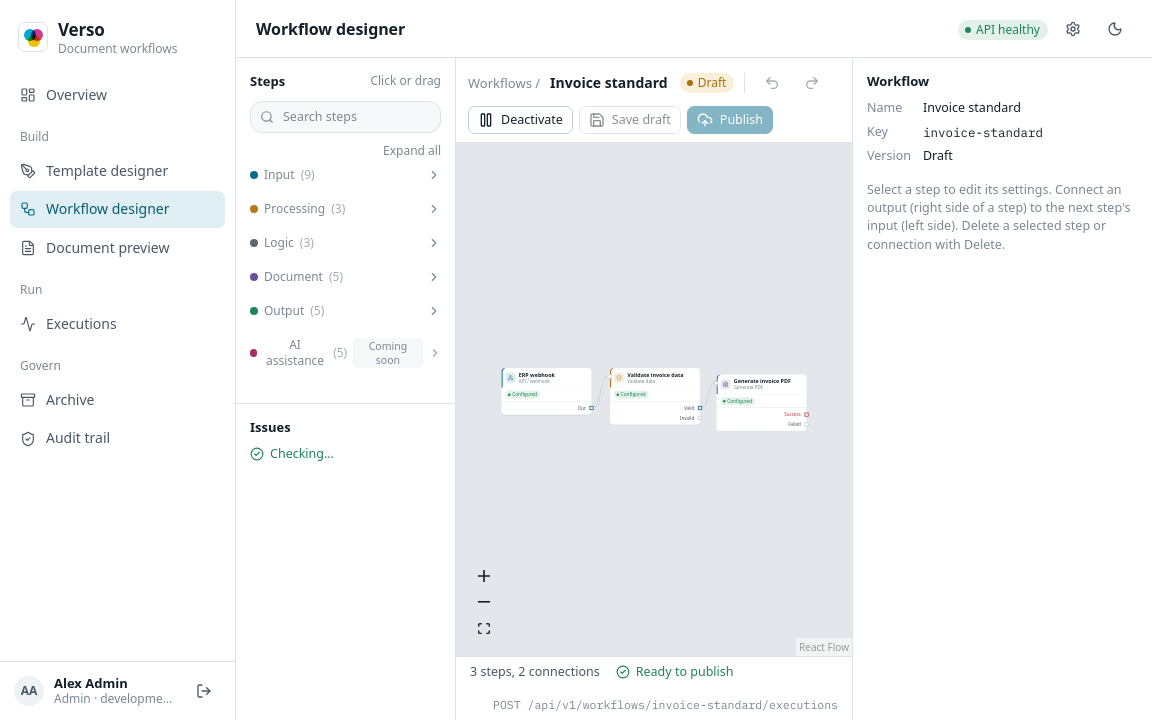
Workflow designer › filters the palette by search and collapses categories
Later steps or results of the test are not shown.
Check: the element named "Workflow designer" is shown, box [456,58,852,143]
In the search field labelled "Search steps": [346, 117] box [250,101,441,133], type "pdf"
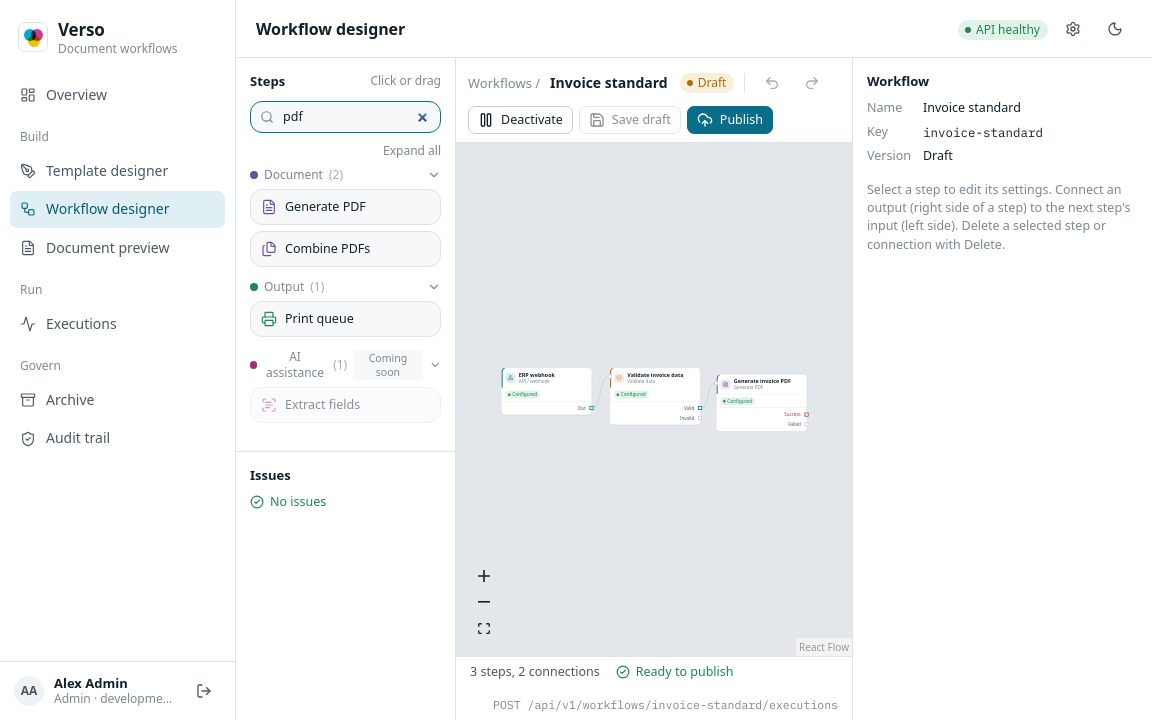
Check: the button with aria-label "Add Generate PDF" is shown, box [250,189,441,225]
Replace the text in the search field named "Search steps" with "zzzz": [346, 117] box [250,101,441,133]
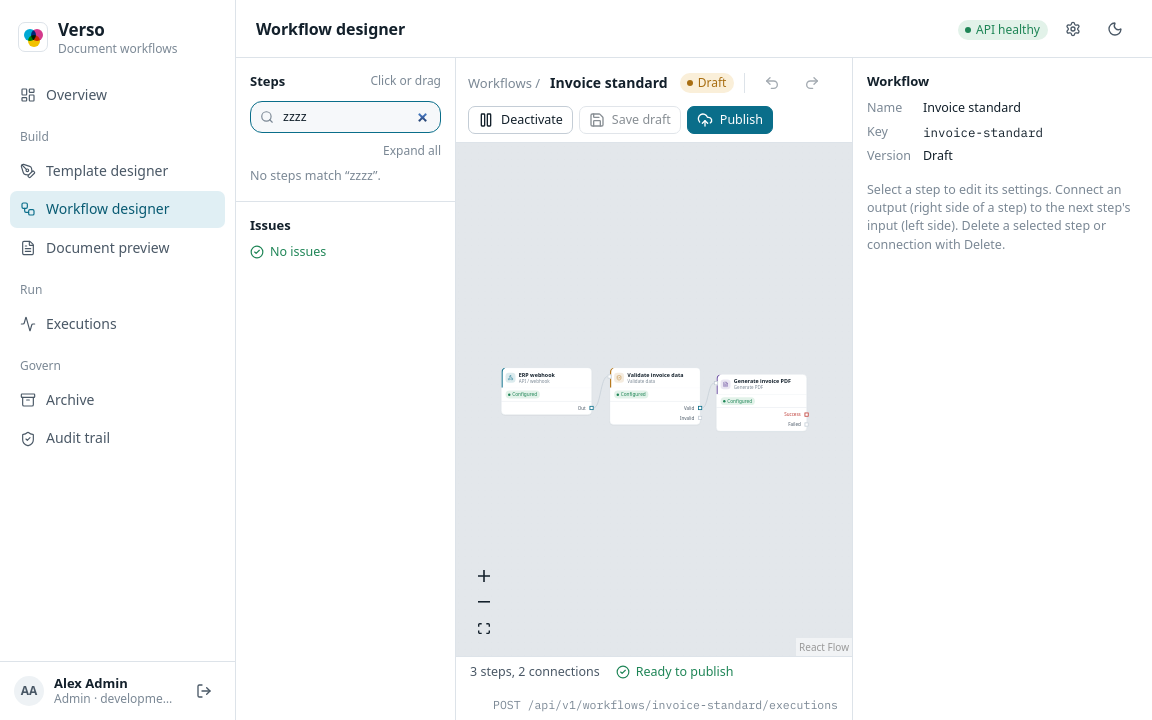
Check: the text "No steps match “zzzz”." is shown, box [250,167,381,184]
Clear the search field named "Search steps": [346, 117] box [250,101,441,133]
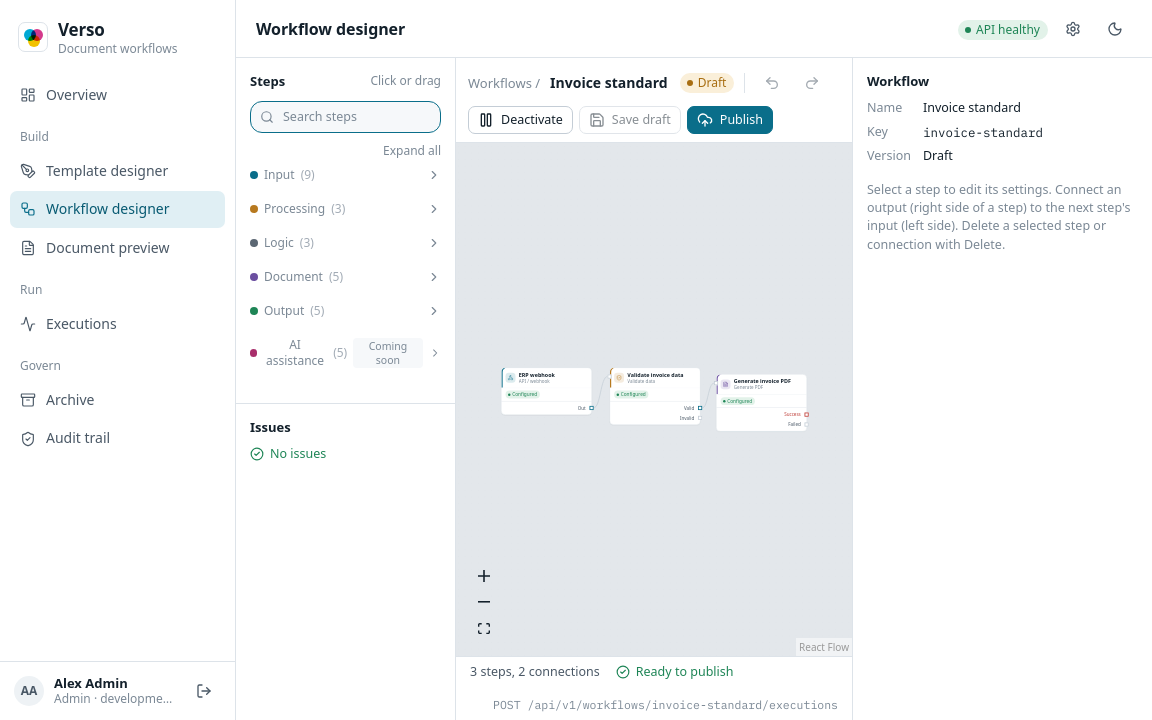
Click the button "Processing (3)": [346, 209] box [250,201,441,217]
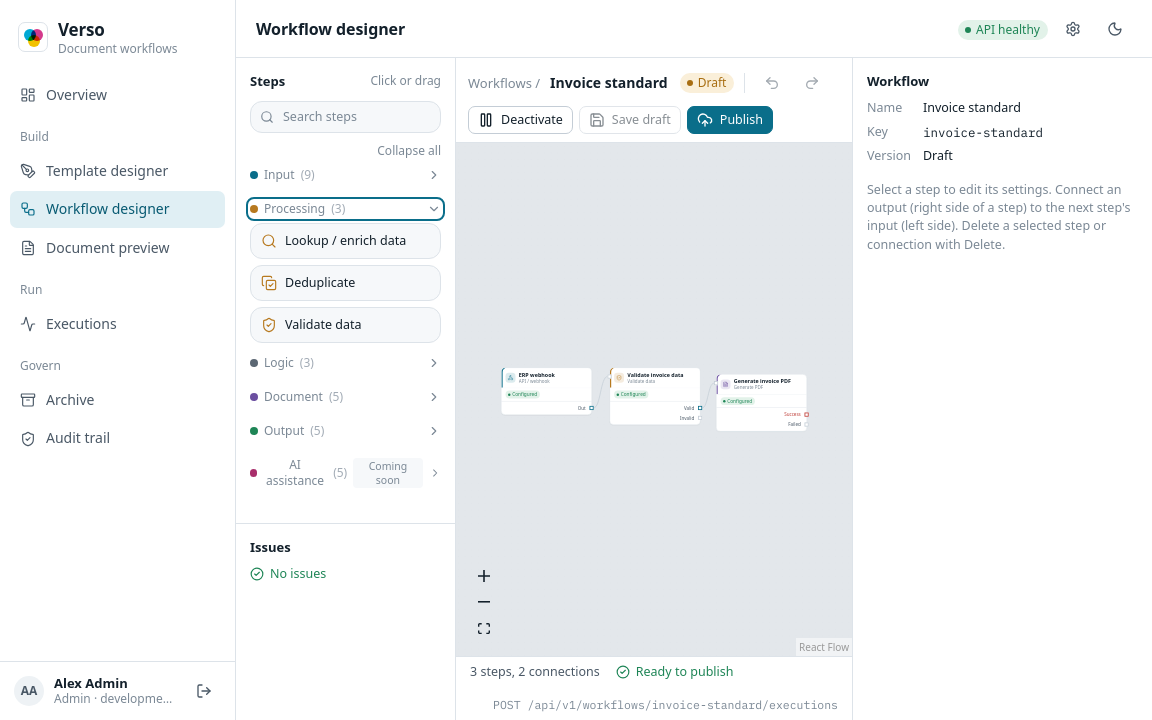
Check: the button with aria-label "Add Validate data" is shown, box [250,307,441,343]
